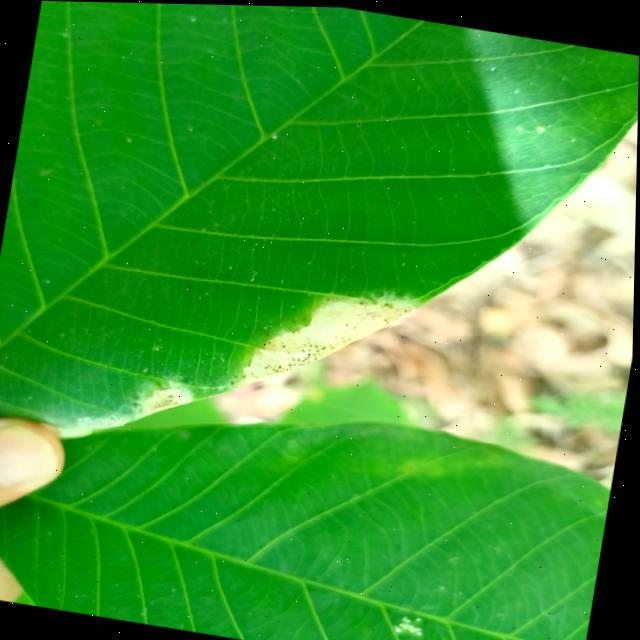Leaf-Blight: (239, 277, 418, 410), (140, 382, 196, 423)
